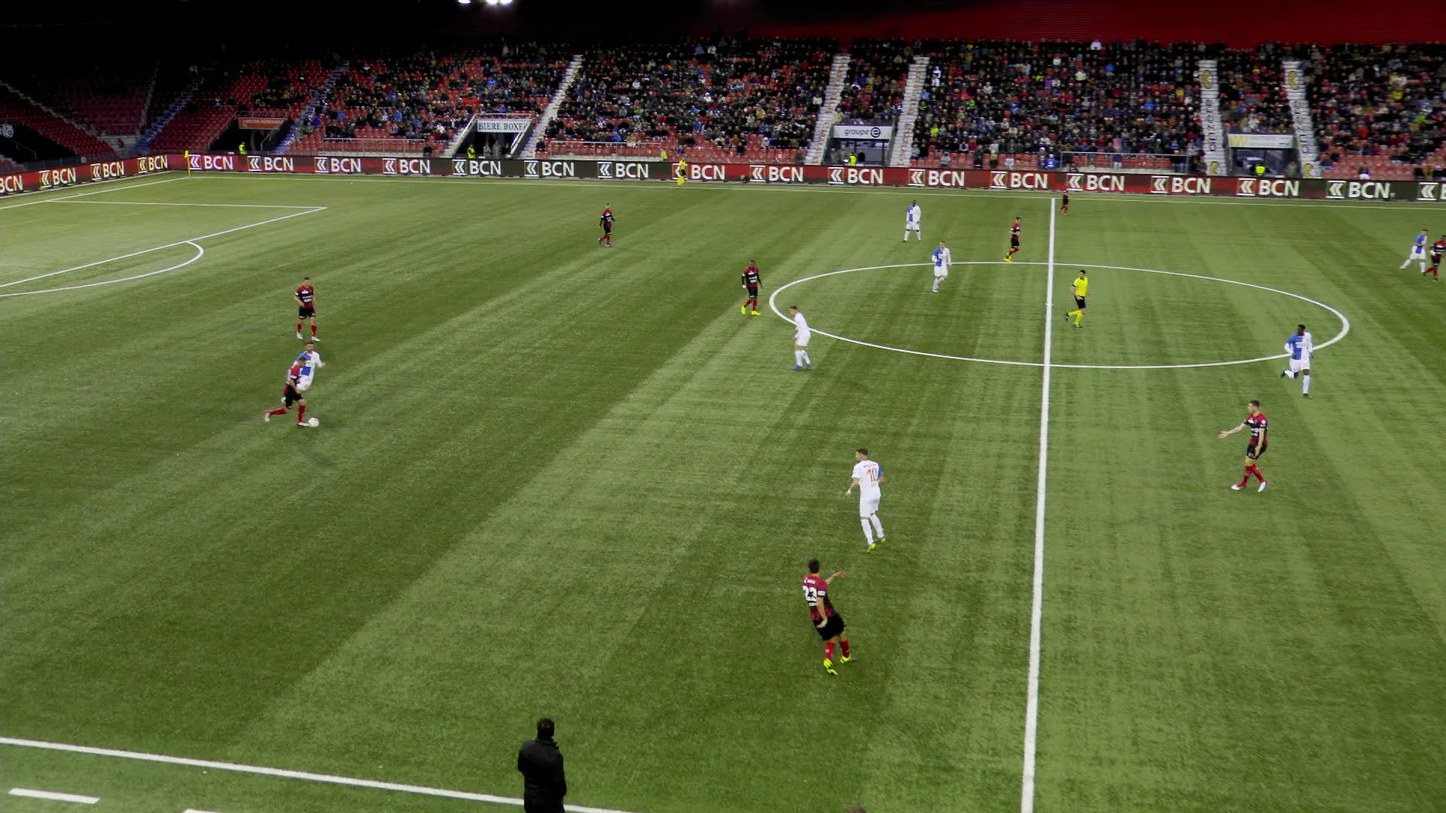ball: (307, 417, 319, 428)
player: (802, 560, 863, 676), (1218, 400, 1269, 494), (846, 447, 889, 551), (285, 336, 331, 409), (266, 356, 307, 430), (1285, 322, 1316, 394), (788, 308, 818, 373), (294, 275, 322, 342), (739, 260, 766, 316), (930, 239, 954, 294), (999, 216, 1025, 263), (1406, 230, 1432, 277), (597, 202, 618, 248), (903, 198, 924, 244), (1426, 239, 1442, 282), (1060, 180, 1076, 215)
referee: (1060, 265, 1094, 329), (676, 156, 691, 187)
